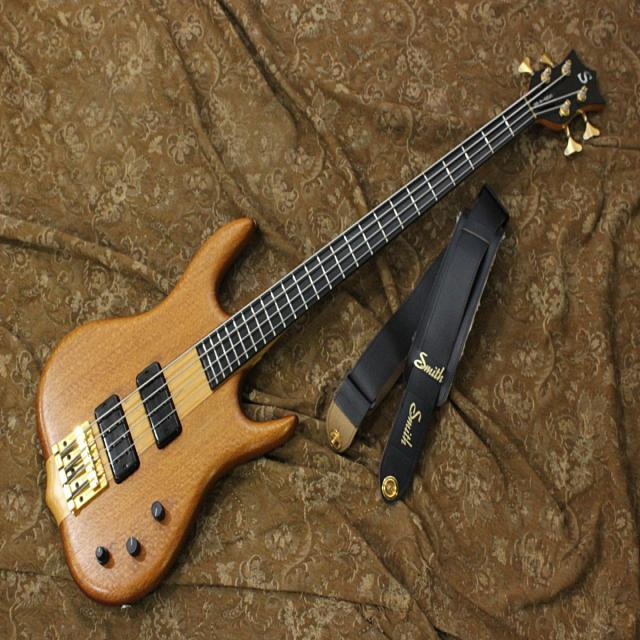bass: (37, 52, 603, 603)
